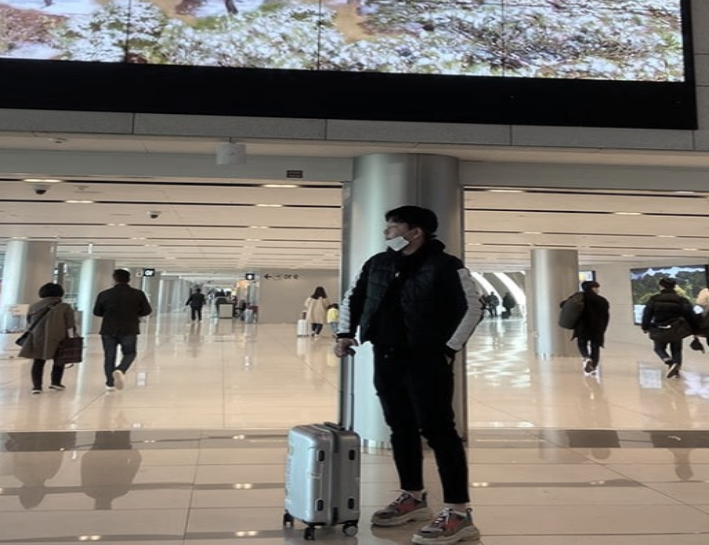mask_weared_incorrect: (378, 203, 435, 256)
